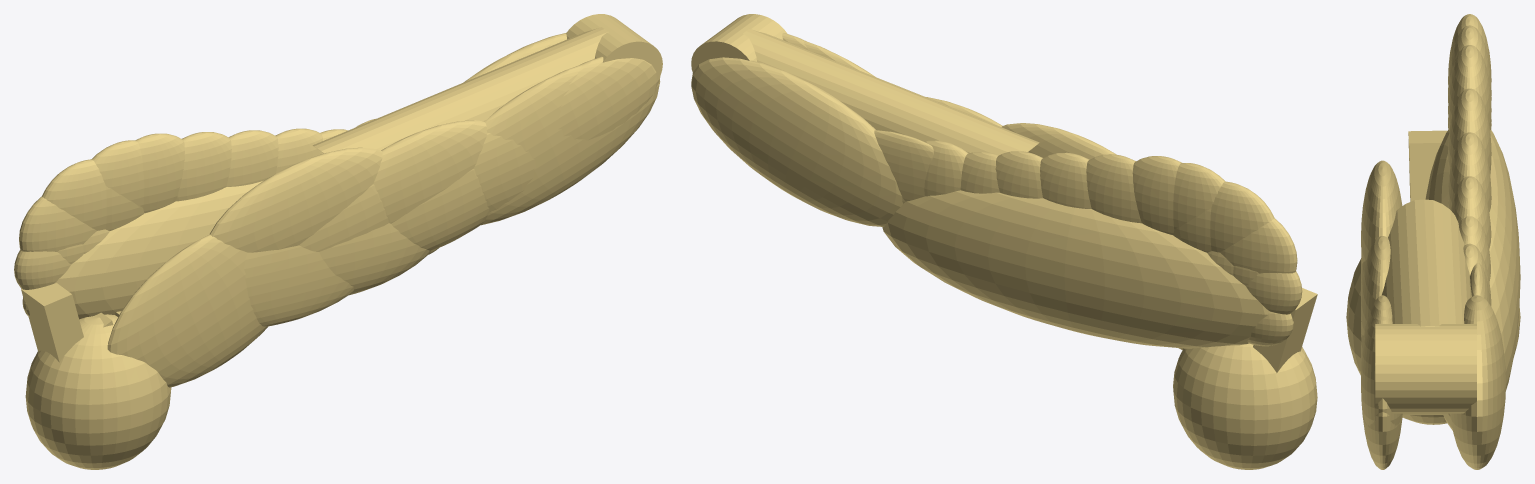
Rendered from pancreas.gltf.
3 views of the same model, side by side, from view 1: azimuth 30°, elevation 25°; view 2: azimuth 150°, elevation 25°; view 3: azimuth 270°, elevation 25° (orthographic). The views are drawn at different scales.
Visible parts, largest first — view 1: Pancreas JFLA (Hamna); view 2: Pancreas JFLA (Hamna); view 3: Pancreas JFLA (Hamna).
Boxes of the visible parts, left/top/right/bottom form: Pancreas JFLA (Hamna): left=14, top=14, right=662, bottom=469; Pancreas JFLA (Hamna): left=691, top=14, right=1317, bottom=469; Pancreas JFLA (Hamna): left=1346, top=14, right=1520, bottom=469.
Bounding box in the file's own units: 4.45 × 2.17 × 0.8145.
